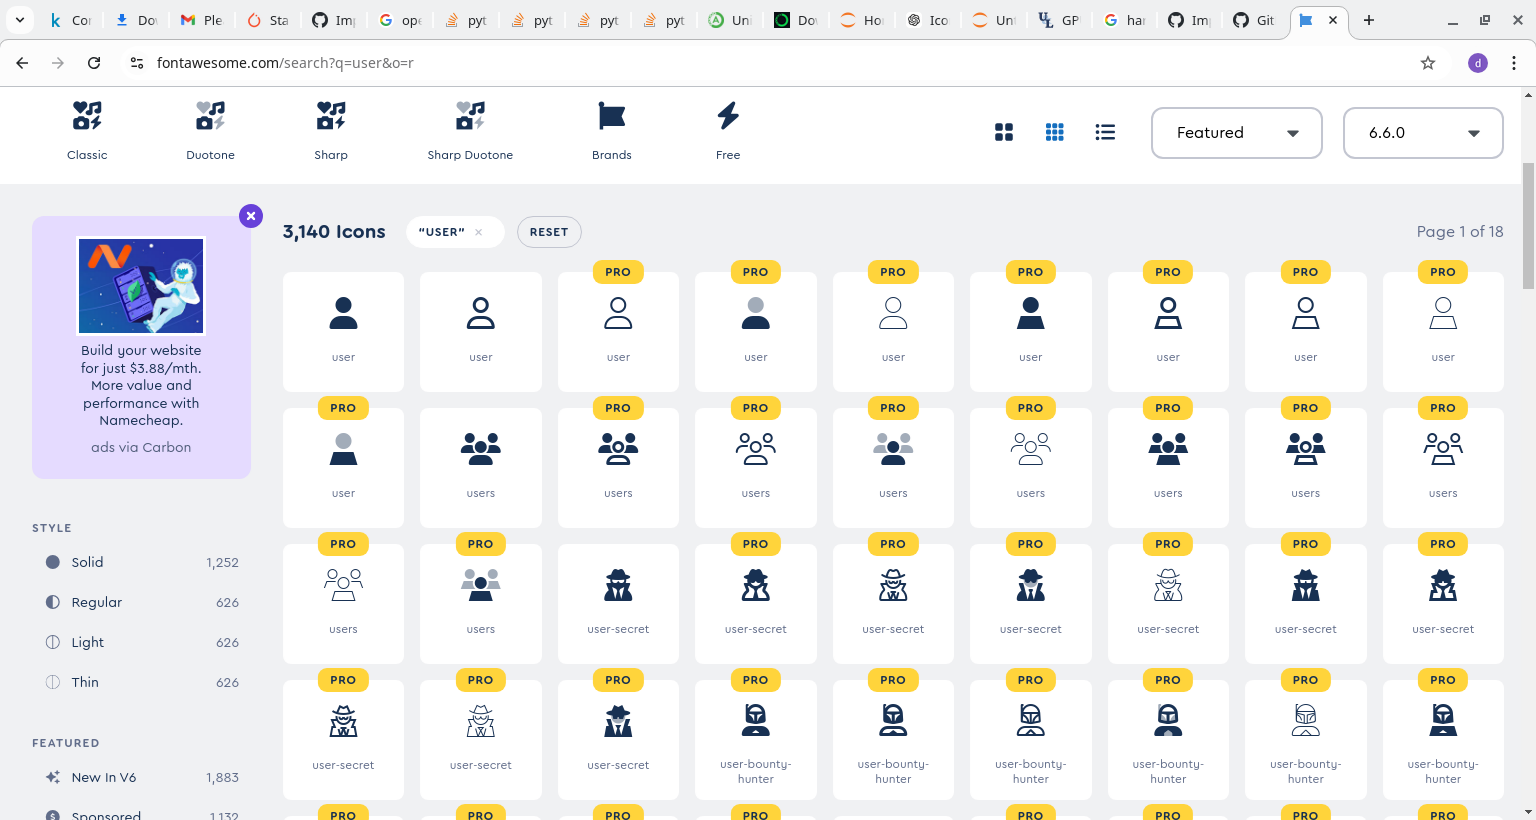user: (454, 277, 513, 344), (314, 283, 369, 337), (314, 423, 369, 474), (727, 289, 786, 335), (1006, 287, 1057, 337), (590, 287, 641, 335), (870, 287, 918, 337), (1144, 291, 1192, 337), (1283, 287, 1327, 333), (1423, 295, 1464, 336)
